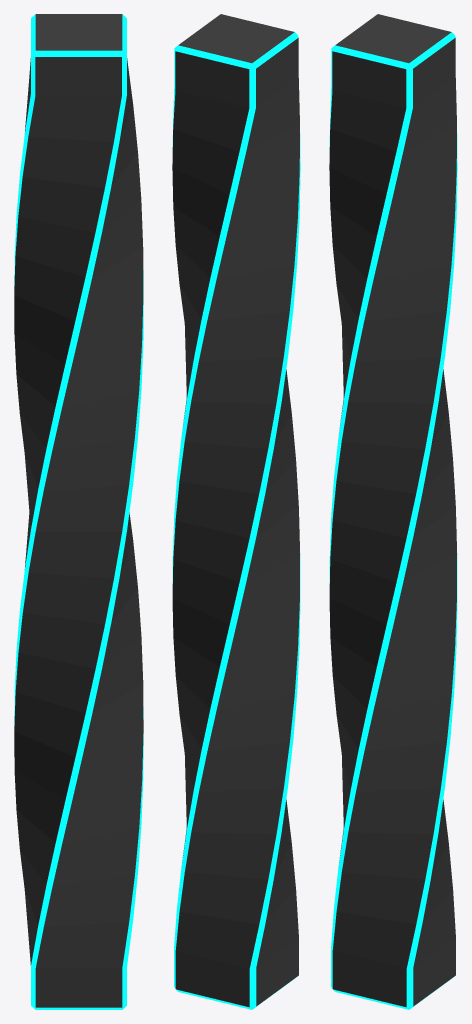
The model's file is TestSpinPathfbx.fbx.
3 renders of one model, left to right at view 1: azimuth 90°, elevation 25°; view 2: azimuth 150°, elevation 25°; view 3: azimuth 330°, elevation 25°, orthographic.
Visible parts, largest first — view 1: Cube; view 2: Cube; view 3: Cube.
Boxes of the visible parts, box(x1,y1,x2,y2) form: Cube: box(14, 14, 143, 1009); Cube: box(172, 14, 300, 1009); Cube: box(329, 14, 457, 1009).
Bounding box in the file's own units: 269 × 2200 × 269.
